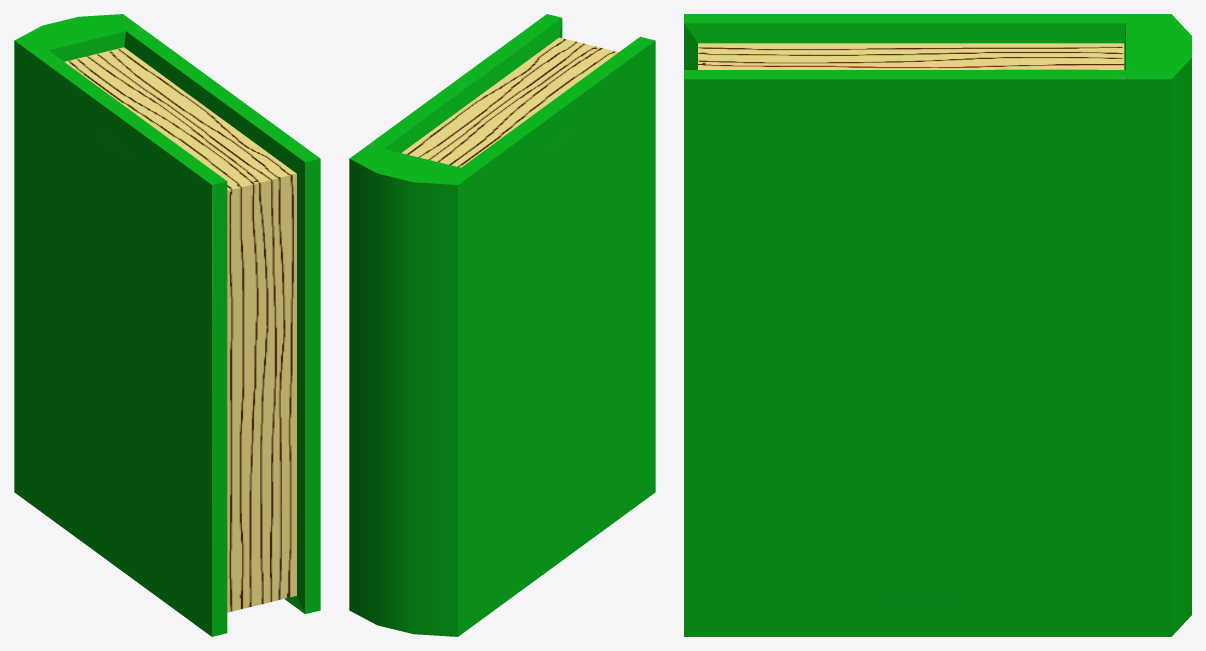
Rendered from BookGreen.fbx.
3 views of the same model, side by side, from view 1: azimuth 30°, elevation 25°; view 2: azimuth 150°, elevation 25°; view 3: azimuth 270°, elevation 25° (orthographic). The views are drawn at different scales.
Parts seen in each view (by area): view 1: BookGreen; view 2: BookGreen; view 3: BookGreen.
Boxes of the visible parts, x1,y1,x2,y2 form: BookGreen: (14,14,320,636); BookGreen: (349,14,655,636); BookGreen: (684,14,1191,636).
Bounding box in the file's own units: 8.15 × 32.41 × 26.75.
Materials: 1 (1 with a texture image).
